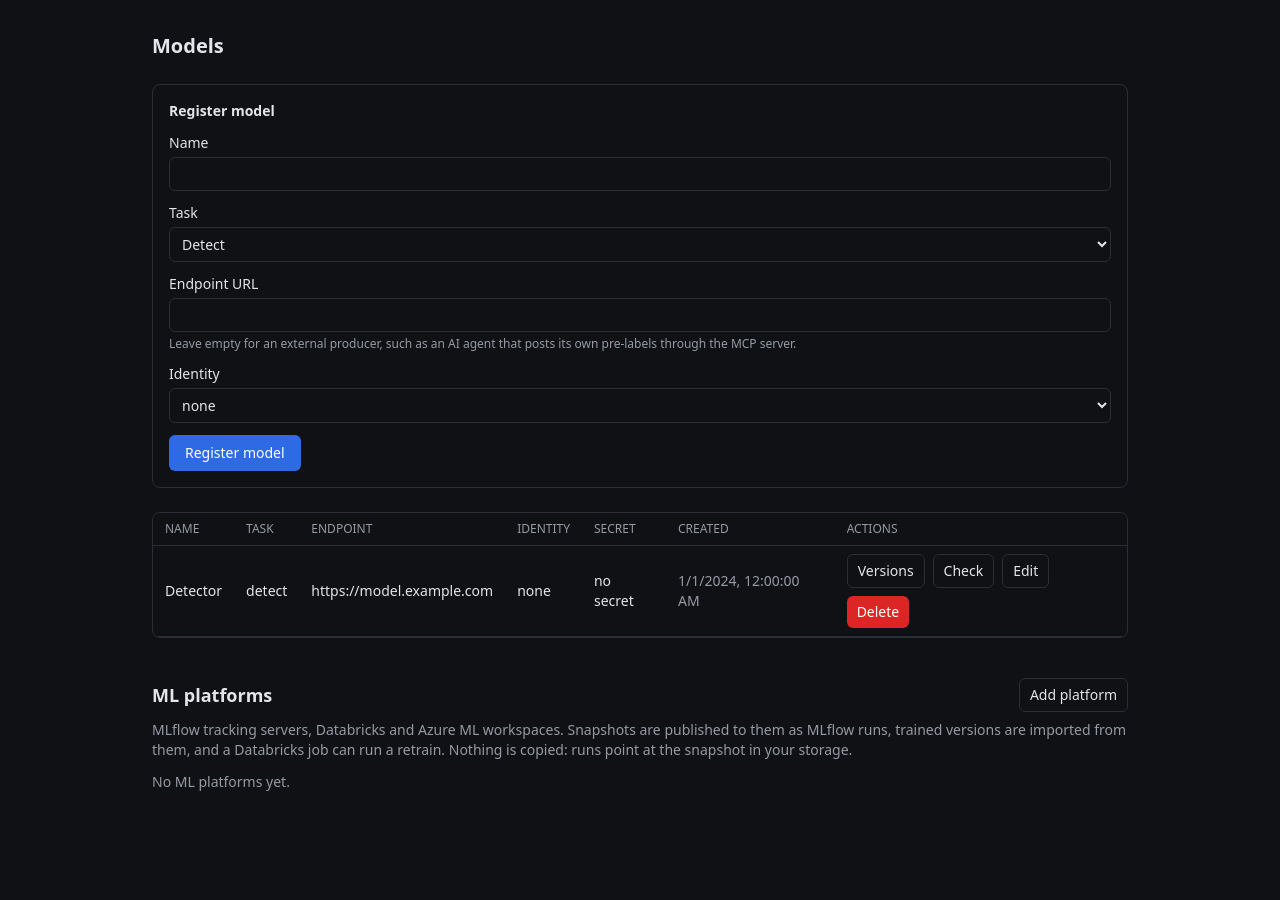
it: ModelsPage › runs a check and shows the resulting messages
This screenshot has width=1280, height=900.
Click the button "Check" at [963, 571], box [933,554,994,588]
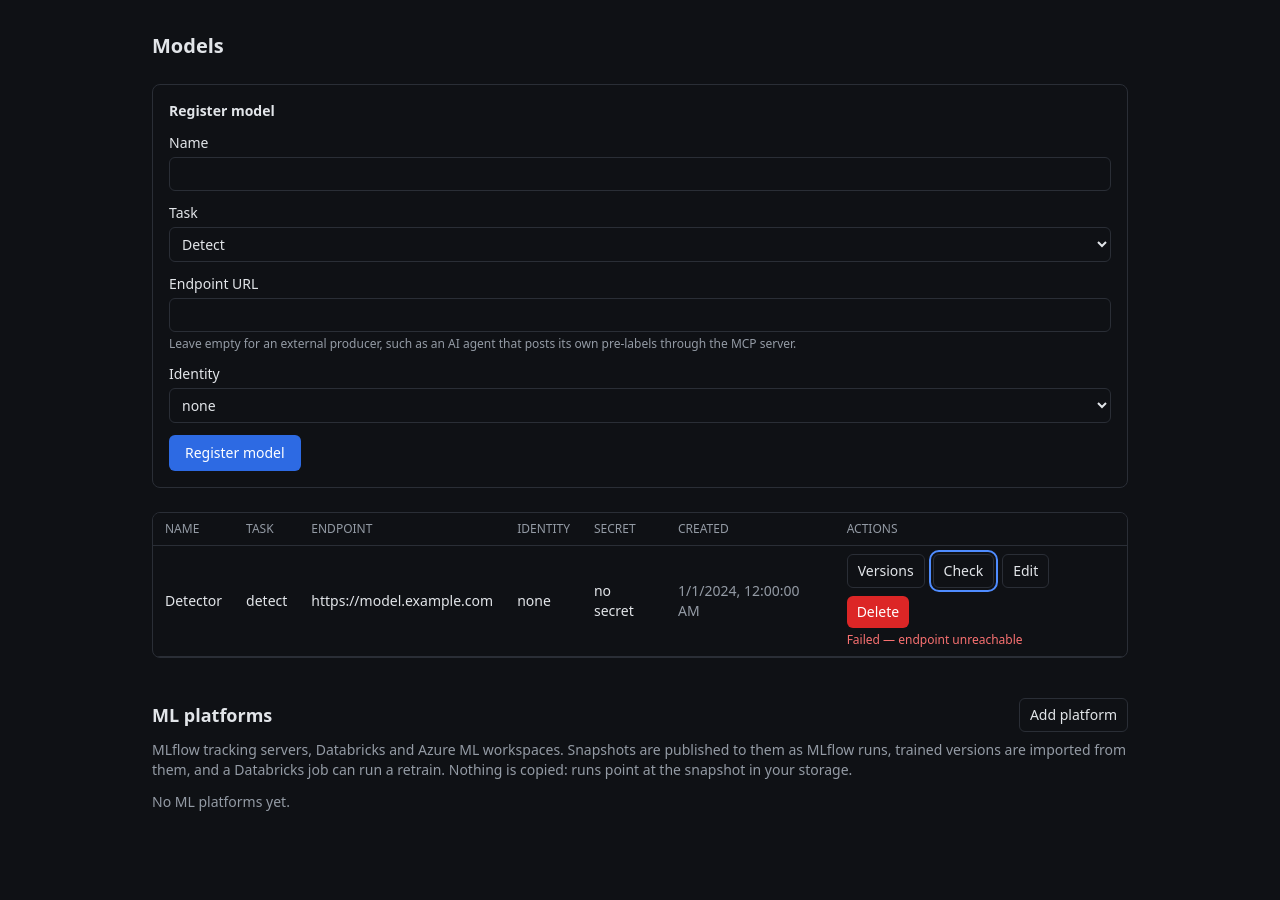
Expected: the text "Failed — endpoint unreachable" is shown, [847,631,1022,648]
